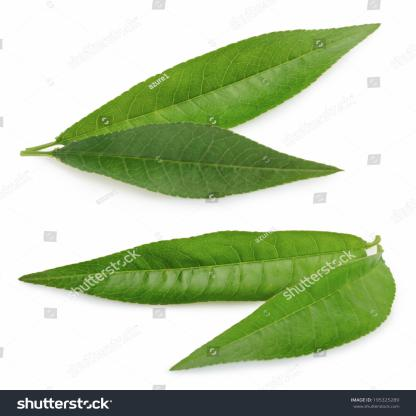Peach leaf: (40, 17, 384, 137), (166, 247, 407, 373), (11, 222, 350, 308), (46, 119, 359, 205)
